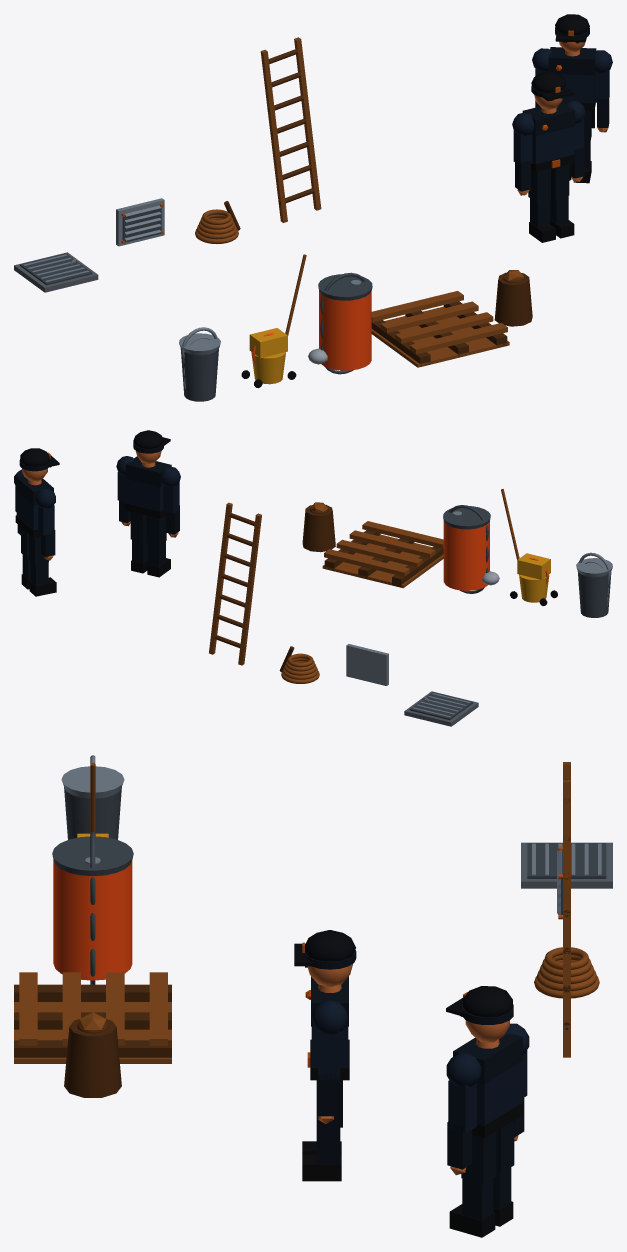
The model's file is prison-tier3.obj.
3 renders of one model, top to bottom at view 1: azimuth 30°, elevation 25°; view 2: azimuth 150°, elevation 25°; view 3: azimuth 270°, elevation 25°, orthographic. The views are drawn at different scales.
Visible parts, largest first — view 1: pallet_slat, drum_body, ladder_rail, guard_chest, guard_torso, sack_body, trash_body, pallet_bottom, guard_leg, pallet_runner, guard_shoulder, guard_arm_upper (+15 smaller); view 2: pallet_slat, drum_body, ladder_rail, guard_leg, guard_torso, vent_frame, guard_chest, guard_shin, sack_body, trash_body, guard_arm_upper, pallet_bottom (+16 smaller); view 3: drum_body, pallet_slat, pallet_runner, sack_body, guard_shin, guard_leg, guard_arm_upper, guard_cap, guard_torso, guard_chest, drum_top, pallet_bottom (+14 smaller).
Boxes of the visible parts, box(x1,y1,x2,y2) form: pallet_slat: box(371, 291, 507, 354); drum_body: box(319, 291, 371, 370); ladder_rail: box(260, 37, 321, 222); guard_chest: box(522, 47, 596, 135); guard_torso: box(532, 73, 595, 163); sack_body: box(494, 272, 532, 326); trash_body: box(180, 348, 218, 401); pallet_bottom: box(371, 306, 509, 367); guard_leg: box(528, 111, 591, 203); pallet_runner: box(371, 301, 507, 366); guard_shoulder: box(512, 48, 612, 136); guard_arm_upper: box(513, 68, 609, 164); pallet_slat: box(324, 521, 443, 576); drum_body: box(443, 521, 489, 590); ladder_rail: box(209, 502, 261, 665); guard_leg: box(21, 512, 166, 564); guard_torso: box(16, 479, 163, 530); vent_frame: box(346, 644, 388, 685); guard_chest: box(16, 456, 171, 505); guard_shin: box(22, 539, 165, 586); sack_body: box(302, 504, 335, 552); trash_body: box(577, 571, 611, 617); guard_arm_upper: box(15, 472, 179, 535); pallet_bottom: box(322, 534, 443, 588); drum_body: box(53, 860, 132, 980); pallet_slat: box(19, 972, 167, 1045); pallet_runner: box(14, 984, 171, 1057); sack_body: box(64, 1019, 121, 1097); guard_shin: box(316, 1127, 511, 1220); guard_leg: box(316, 1080, 514, 1184); guard_arm_upper: box(319, 1031, 527, 1133); guard_cap: box(305, 930, 512, 1017); guard_torso: box(311, 1026, 521, 1125); guard_chest: box(311, 976, 522, 1084); drum_top: box(52, 836, 133, 875); pallet_bottom: box(14, 1002, 171, 1063).
Bounding box in the file's own units: 7.24 × 2.39 × 4.55.
